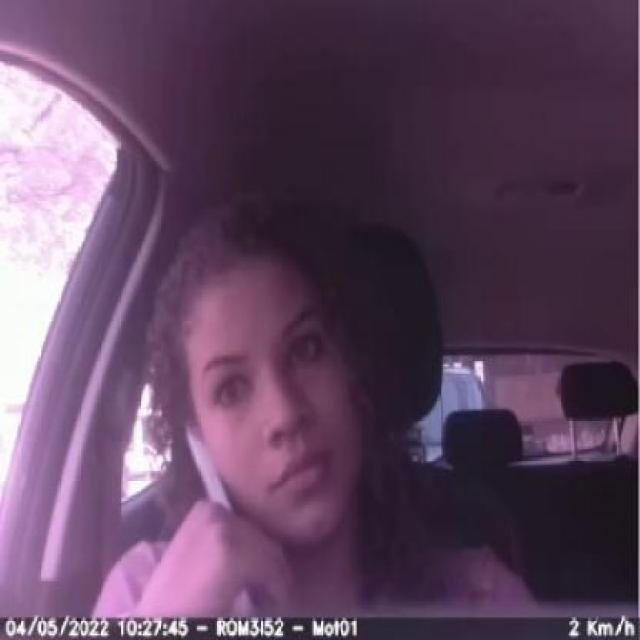using_phone: (138, 368, 269, 617)
